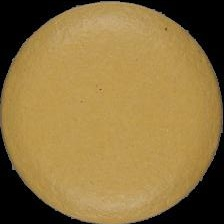0677-1979: (0, 0, 224, 224)
